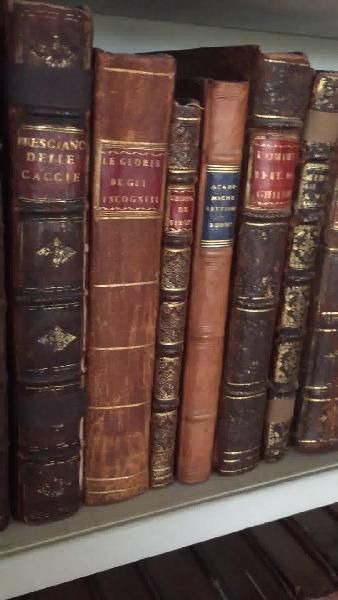Aa6-32: (12, 1, 98, 519)
Aa6-33: (93, 35, 167, 508)
Aa6-34: (158, 82, 198, 485)
Aa6-35: (178, 54, 254, 503)
Aa6-36: (215, 39, 314, 496)
Aa6-37: (255, 53, 338, 474)
